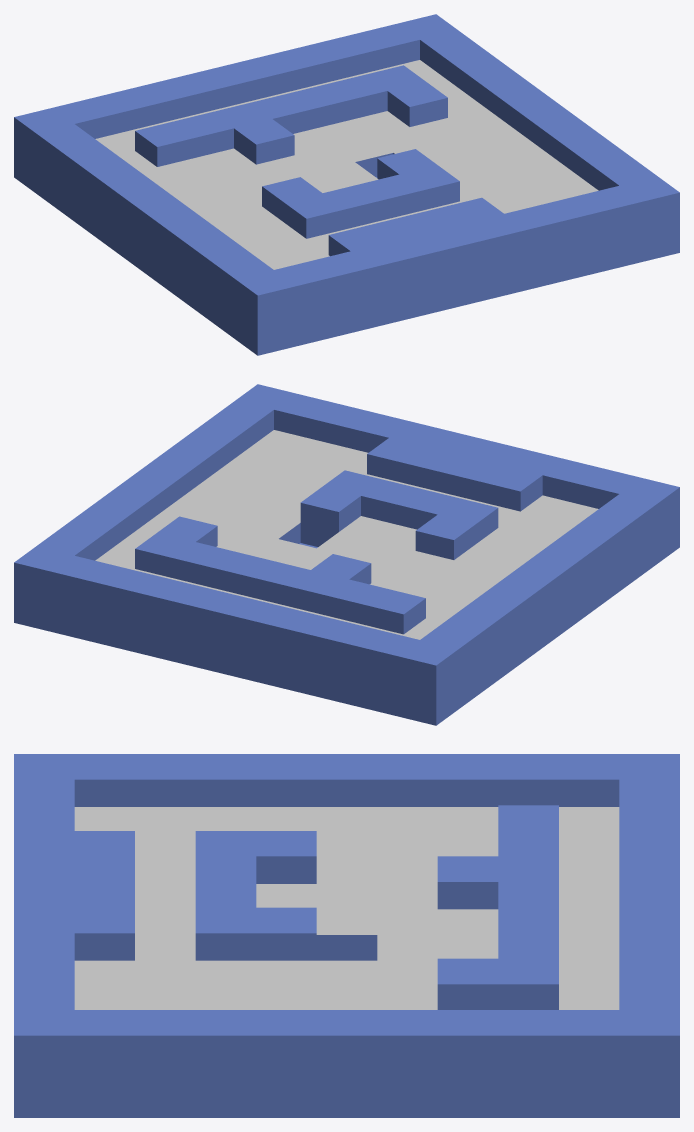
Rendered from 045_platform.fbx.
3 renders of one model, top to bottom at view 1: azimuth 30°, elevation 25°; view 2: azimuth 150°, elevation 25°; view 3: azimuth 270°, elevation 25°, orthographic. The views are drawn at different scales.
Parts seen in each view (by area): view 1: Cube; view 2: Cube; view 3: Cube.
Boxes of the visible parts, left/top/right/bottom form: Cube: left=14, top=14, right=679, bottom=355; Cube: left=14, top=384, right=679, bottom=725; Cube: left=14, top=754, right=679, bottom=1117.
Size of the model in its own units: 1100 by 150 by 1100.
